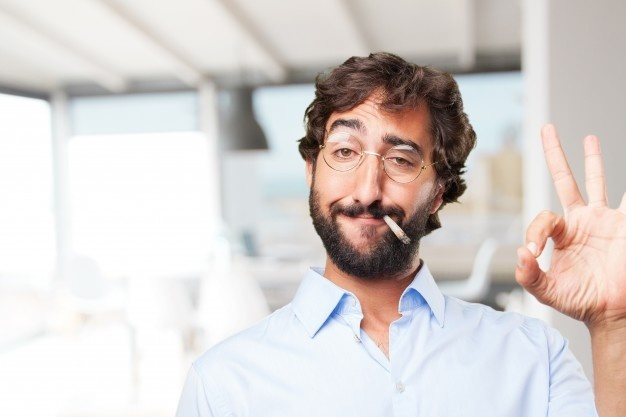sigaretta: (380, 202, 414, 252)
